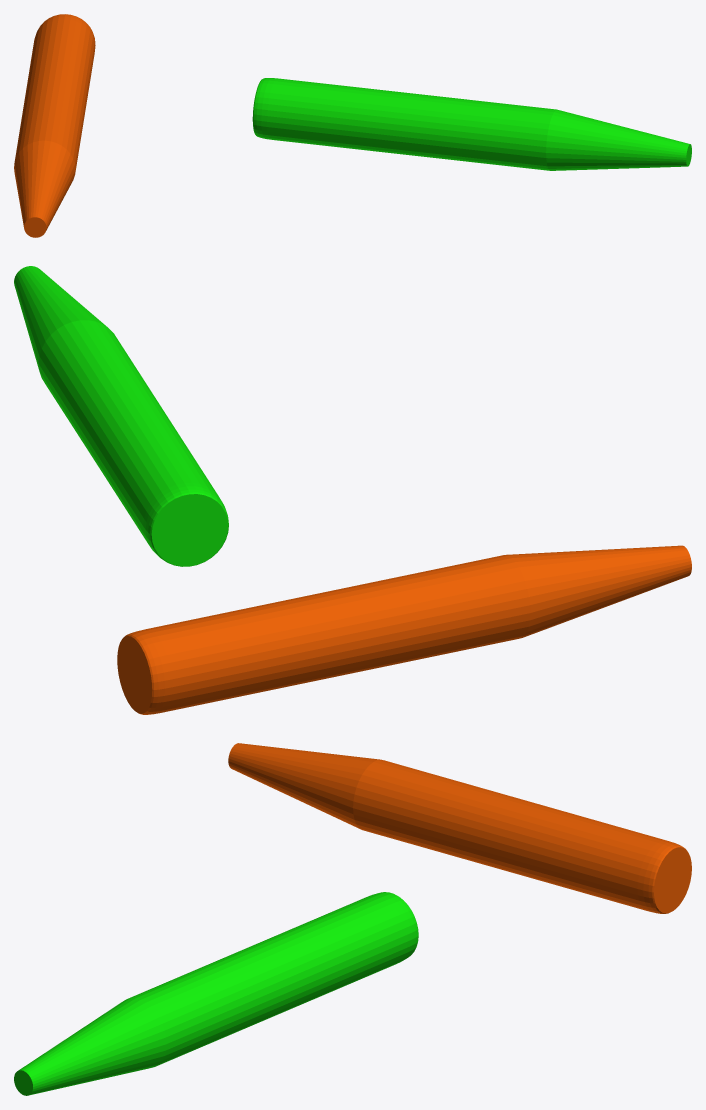
File: crayons.fbx
3 renders of one model, top to bottom at view 1: azimuth 30°, elevation 25°; view 2: azimuth 150°, elevation 25°; view 3: azimuth 270°, elevation 25°, orthographic. The views are drawn at different scales.
Visible parts, largest first — view 1: Cylinder.008, Cylinder.007; view 2: Cylinder.007, Cylinder.008; view 3: Cylinder.007, Cylinder.008.
Boxes of the visible parts, x1,y1,x2,y2 form: Cylinder.008: (252, 78, 691, 170); Cylinder.007: (14, 14, 95, 237); Cylinder.007: (117, 545, 691, 714); Cylinder.008: (14, 266, 228, 566); Cylinder.007: (228, 743, 691, 913); Cylinder.008: (14, 892, 418, 1095).
Size of the model in its own units: 22.66 by 2.09 by 19.35.
